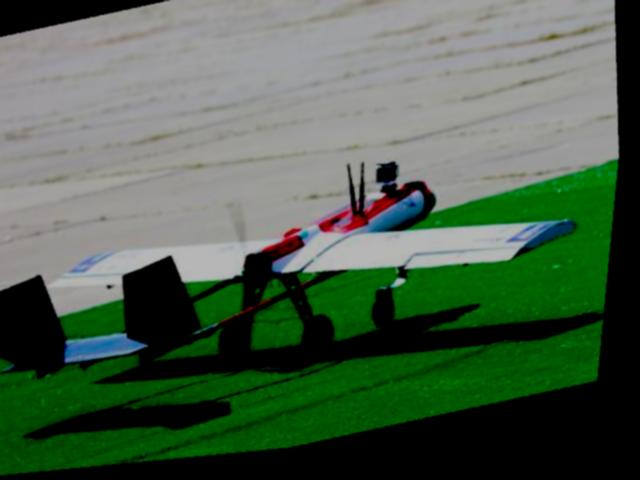uav: (0, 124, 596, 414)
